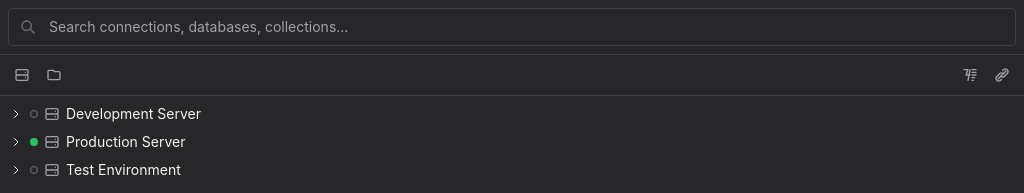
it: Sidebar Search › clears search when clicking clear button
// Type in search
Step 1. Type "test" into the field with placeholder "Search connections, databases, collections..." → coordinates (512, 27), box 8,8 -> 1016,46
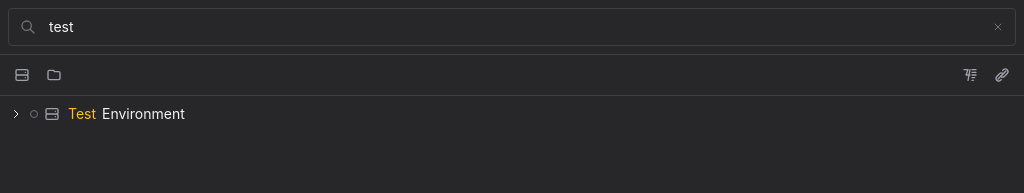
// Click clear button
Step 2. Click the button titled "Clear search" → coordinates (998, 27), box 988,17 -> 1008,37
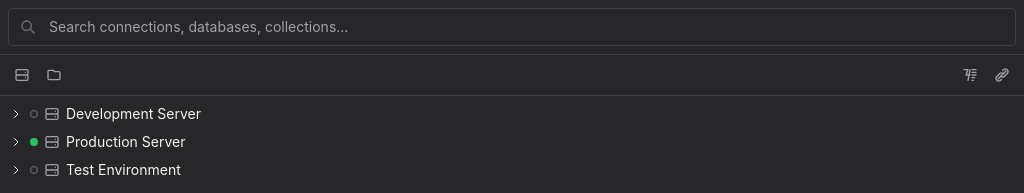
Now the field with placeholder "Search connections, databases, collections..." is empty, box 8,8 -> 1016,46
